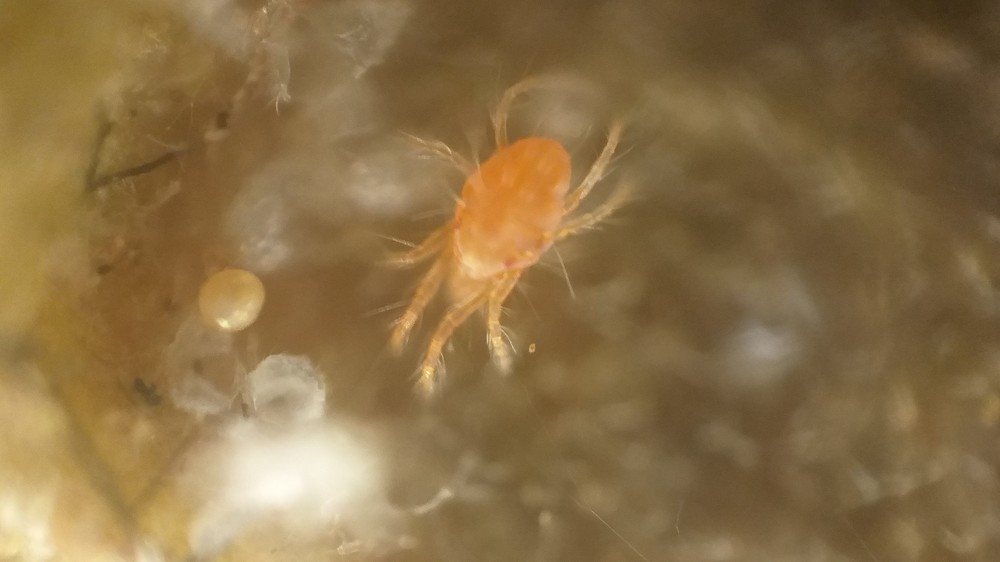Aracnido Rojo: (354, 83, 675, 427)
